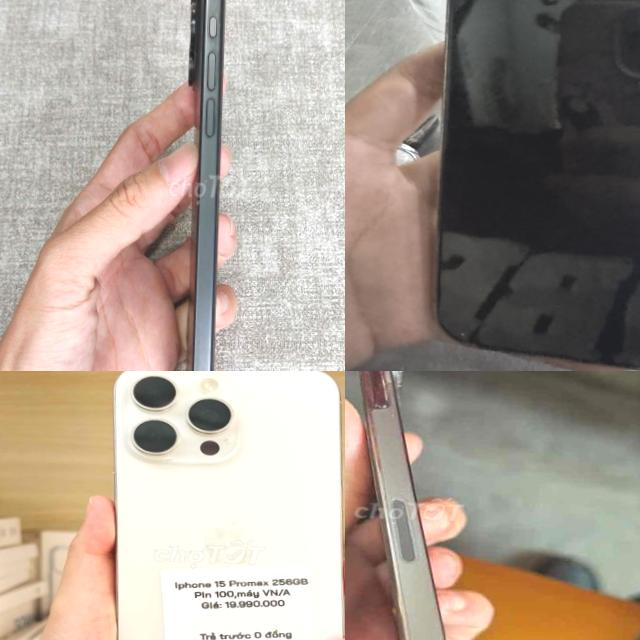physical_damage: (436, 312, 487, 360), (619, 345, 640, 371)
